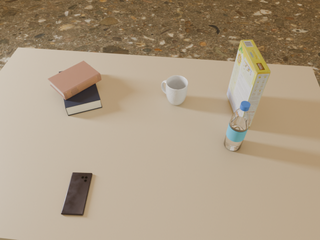book: (48, 61, 101, 100), (59, 71, 102, 116)
bottle: (224, 101, 251, 151)
box: (227, 40, 271, 126)
cup: (161, 76, 188, 105)
phone: (61, 173, 92, 215)
